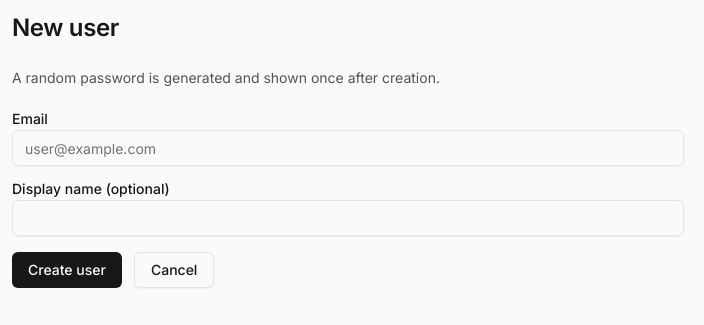
Scenario: AdminUserNewRoute › shows a required validation error when email is empty on submit
This screenshot has width=704, height=325.
Click the button "Create user": {"x": 67, "y": 270} [12, 252, 122, 288]
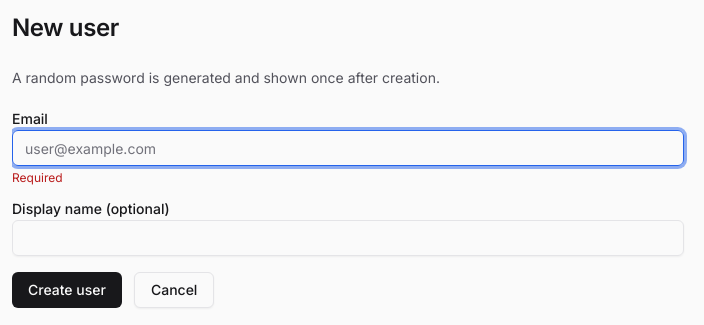
Expected: the text "Required" is shown, [12, 170, 63, 185]
